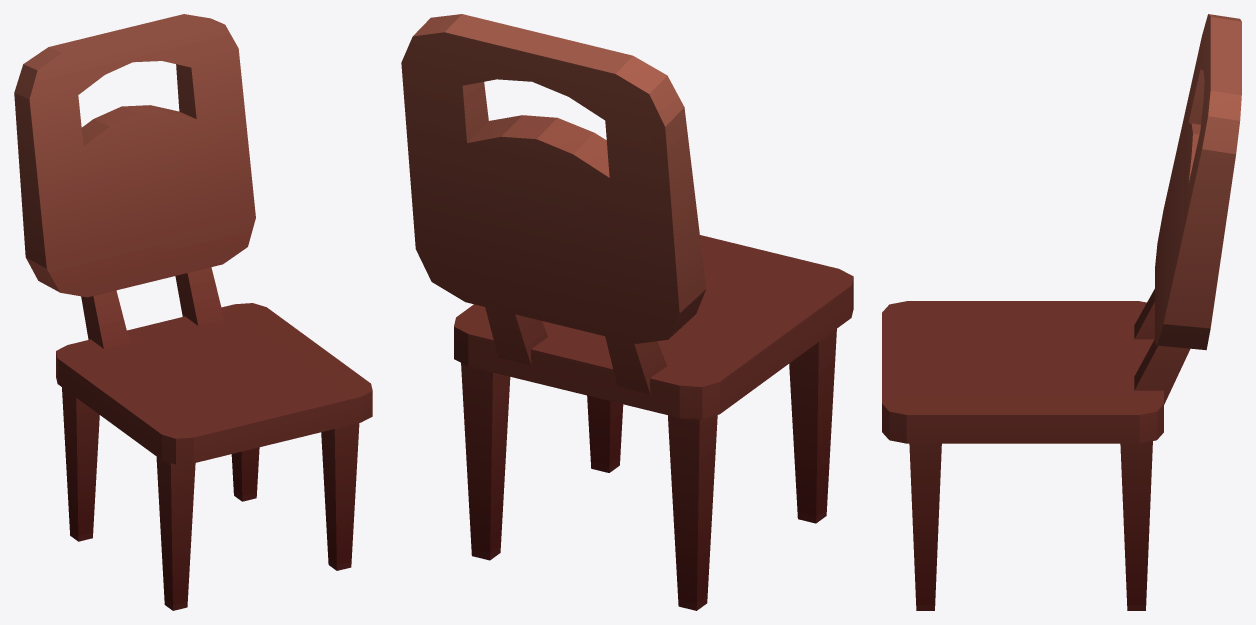
The model's file is chair.fbx.
3 views of the same model, side by side, from view 1: azimuth 30°, elevation 25°; view 2: azimuth 150°, elevation 25°; view 3: azimuth 270°, elevation 25° (orthographic). The views are drawn at different scales.
Parts seen in each view (by area): view 1: Chair; view 2: Chair; view 3: Chair.
Part boxes in pixels (box(x1,y1,x2,y2)): Chair: box(14, 14, 372, 610); Chair: box(401, 14, 853, 610); Chair: box(882, 14, 1241, 610).
Size of the model in its own units: 324 by 675 by 433.
